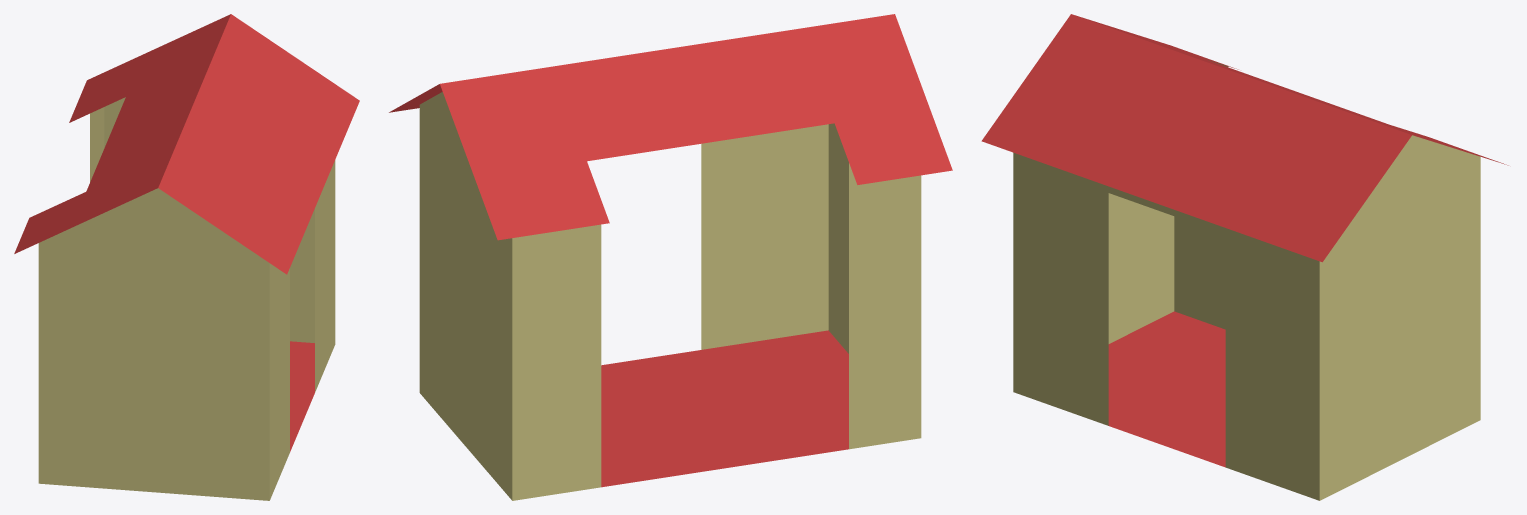
3 views of the same model, side by side, from view 1: azimuth 30°, elevation 25°; view 2: azimuth 150°, elevation 25°; view 3: azimuth 270°, elevation 25° (orthographic). The views are drawn at different scales.
Parts seen in each view (by area): view 1: group_5, group_3, group_6; view 2: group_5, group_3, group_6, group_4; view 3: group_5, group_3, group_6.
Part boxes in pixels (bbox=[...]): group_5: bbox=[38, 97, 335, 500]; group_3: bbox=[14, 14, 359, 274]; group_6: bbox=[290, 341, 314, 451]; group_5: bbox=[419, 92, 921, 500]; group_3: bbox=[389, 14, 952, 240]; group_6: bbox=[601, 330, 848, 487]; group_4: bbox=[502, 152, 949, 238]; group_5: bbox=[1013, 60, 1480, 500]; group_3: bbox=[981, 14, 1508, 262]; group_6: bbox=[1108, 311, 1225, 467].
Bounding box in the file's own units: 16.9 × 17.51 × 12.15.
